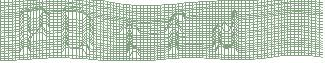D: (60, 7, 96, 57)
d: (209, 8, 242, 55)
f: (162, 10, 189, 56)
p: (18, 5, 51, 56)
t: (119, 18, 145, 59)
